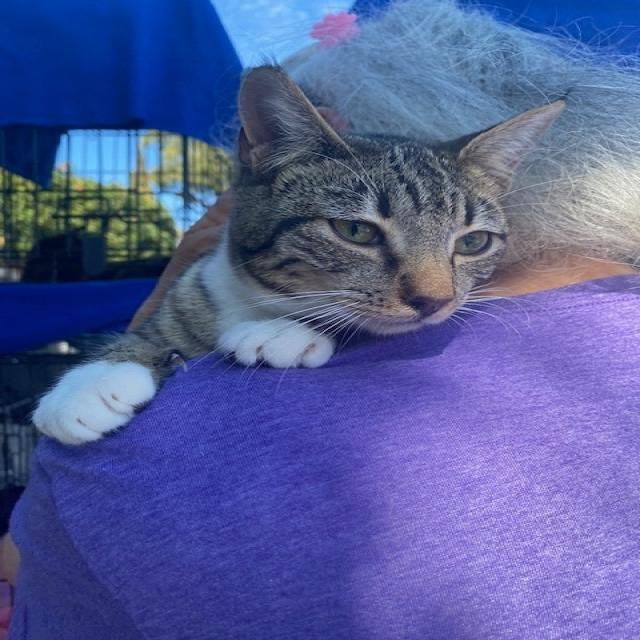american_shorthair_cat: (224, 58, 574, 344)
